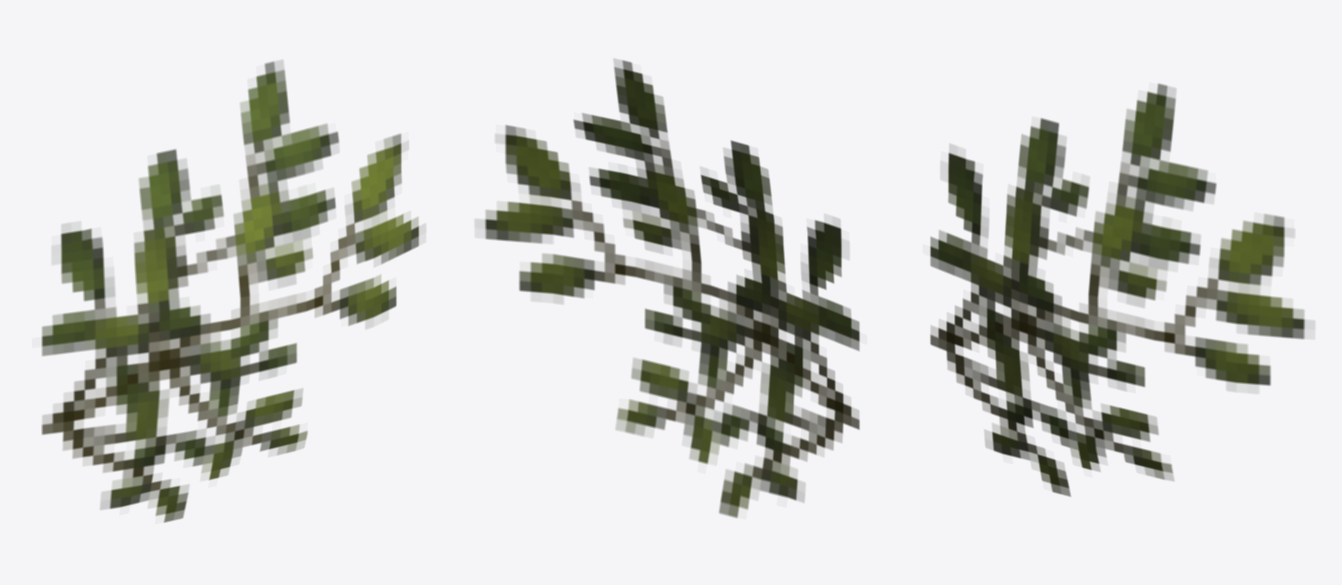
Rendered from FeuillageMural.glb.
The picture shows the model from 3 angles, left to right: view 1: azimuth 30°, elevation 25°; view 2: azimuth 150°, elevation 25°; view 3: azimuth 330°, elevation 25°; orthographic projection.
Visible parts, largest first — view 1: Feuillage mural; view 2: Feuillage mural; view 3: Feuillage mural.
Part boxes in pixels (left/top/right/bottom): Feuillage mural: left=41, top=61, right=424, bottom=522; Feuillage mural: left=476, top=59, right=859, bottom=517; Feuillage mural: left=930, top=83, right=1313, bottom=496.
Size of the model in its own units: 1.39 by 1.45 by 0.1355.
Materials: 1 (1 with a texture image).
